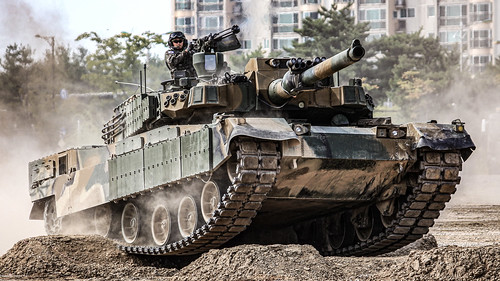soldier: (165, 28, 191, 78)
tank: (37, 54, 458, 248)
weapon: (189, 26, 253, 54)
